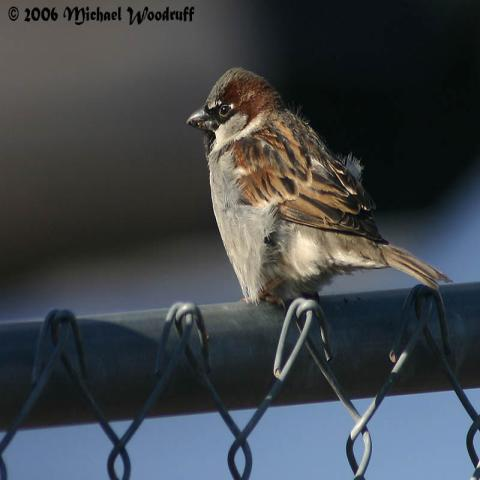bird: (184, 64, 452, 308)
